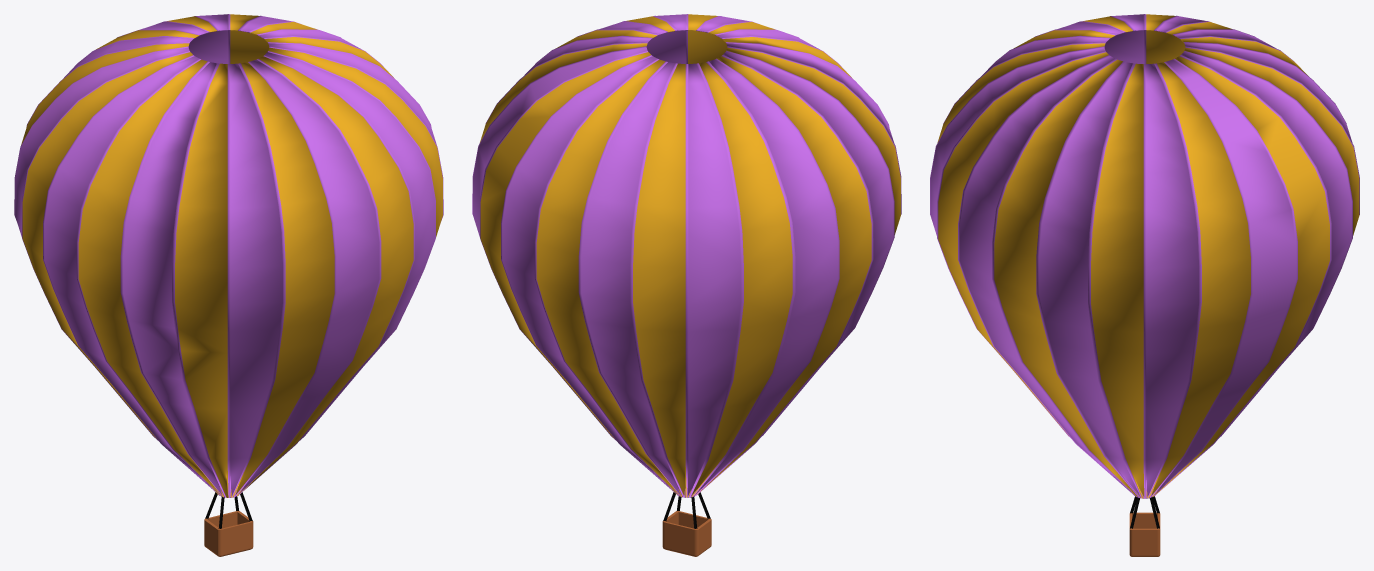
Rendered from balloon.dae.
3 views of the same model, side by side, from view 1: azimuth 30°, elevation 25°; view 2: azimuth 150°, elevation 25°; view 3: azimuth 270°, elevation 25° (orthographic).
Parts seen in each view (by area): view 1: balloon, basket; view 2: balloon, basket; view 3: balloon, basket.
Part boxes in pixels (x1,y1,x2,y2): balloon: (14,14,443,497); basket: (204,511,253,556); balloon: (472,14,901,497); basket: (662,511,711,556); balloon: (930,14,1359,498); basket: (1129,512,1160,556).
Size of the model in its own units: 7.41 by 7.41 by 9.56.
